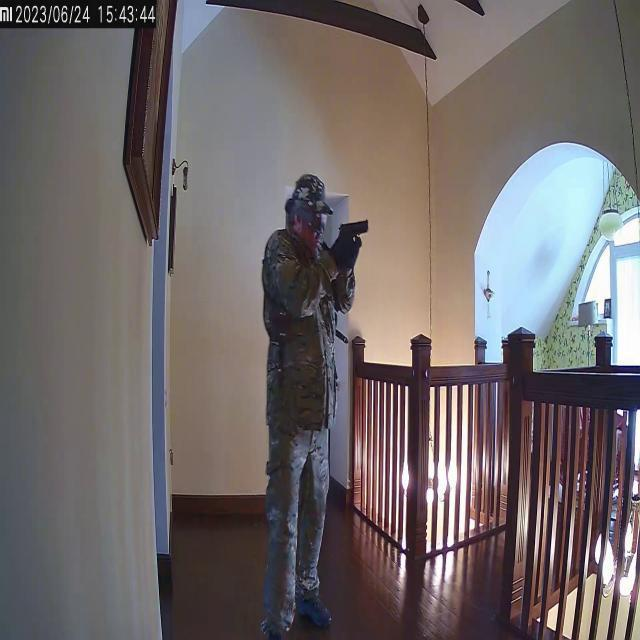gun: (261, 172, 371, 638), (338, 216, 370, 256)
